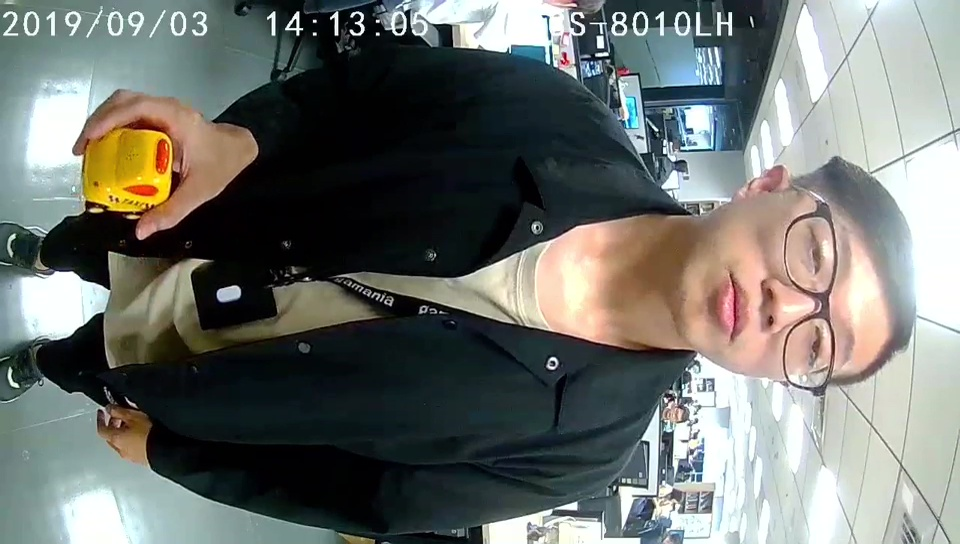car: (80, 125, 171, 214)
